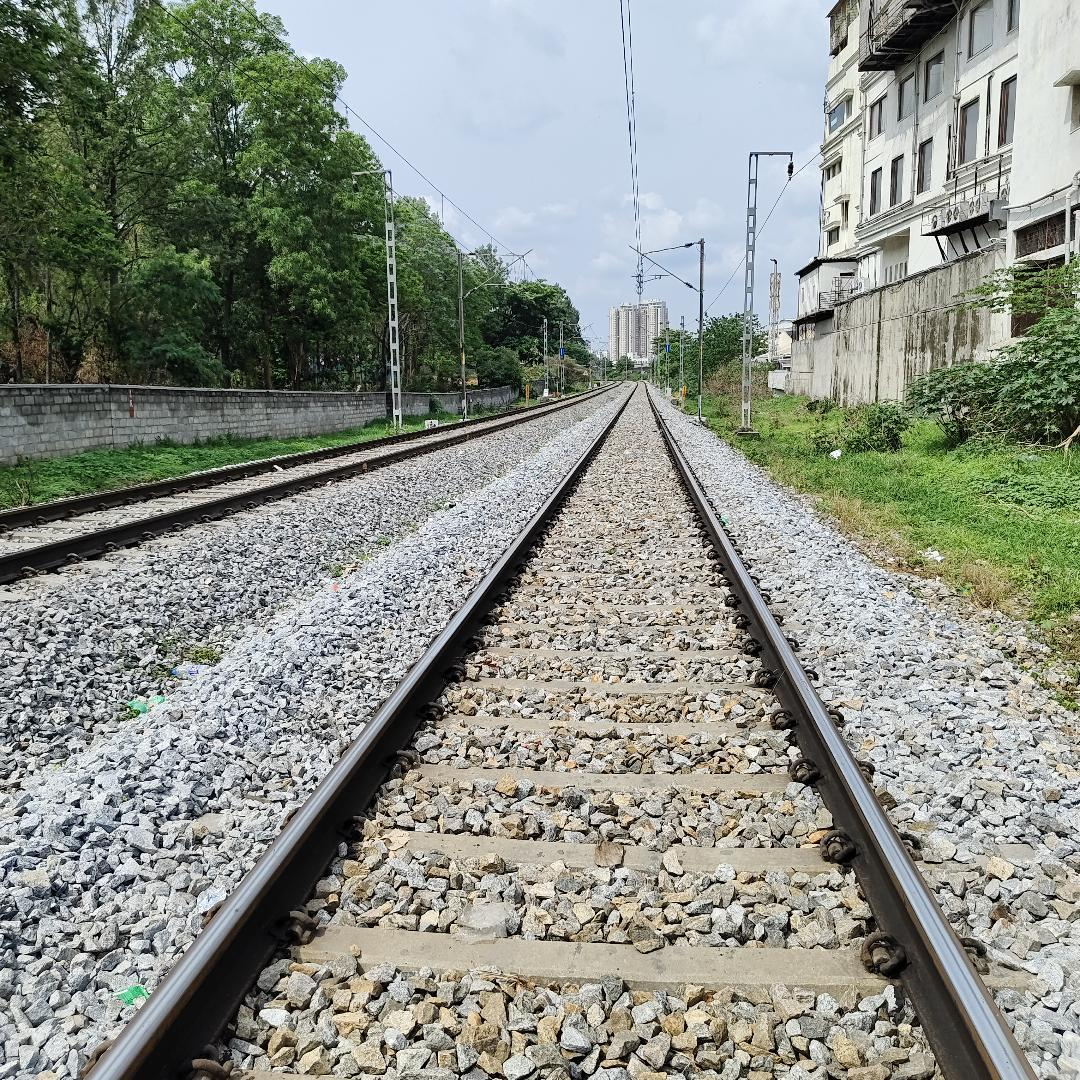track: (49, 377, 1070, 1080)
